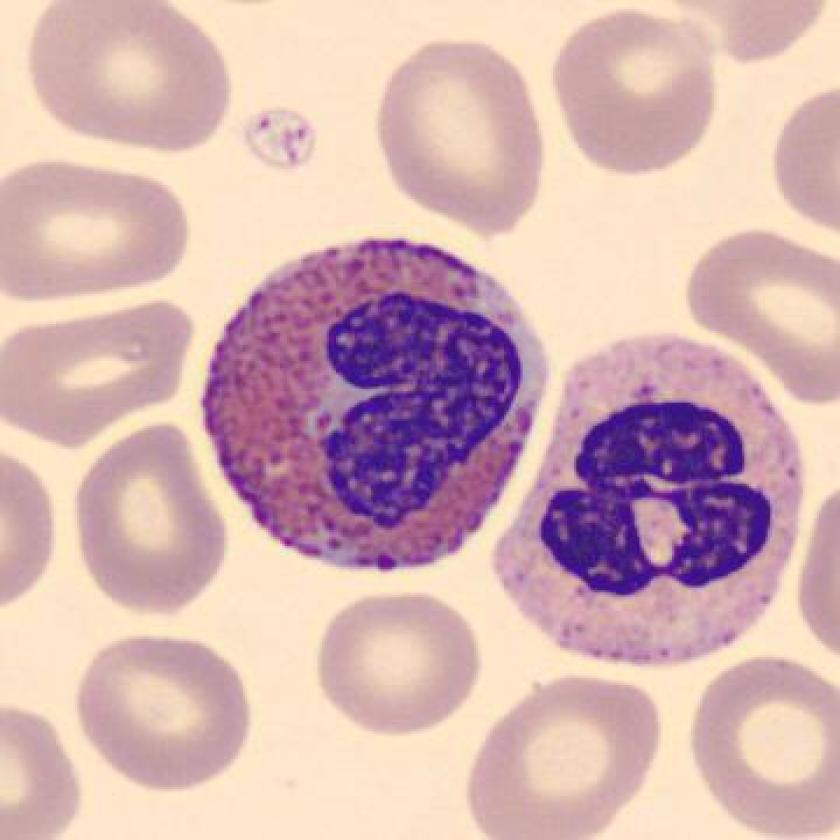eosinophil: (185, 221, 561, 586)
